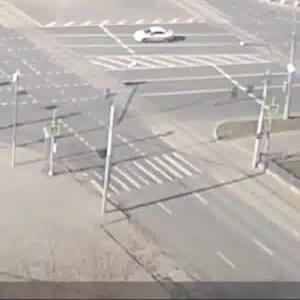car: (132, 27, 184, 48)
